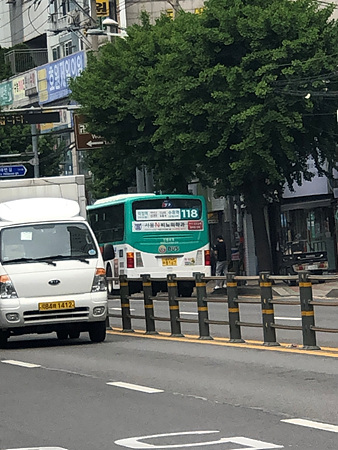bnum: (180, 207, 199, 218)
